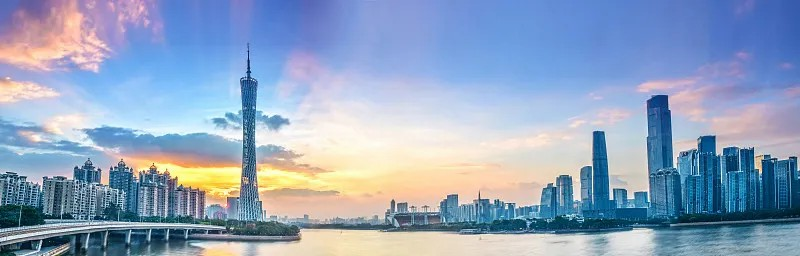Canton: (237, 43, 264, 220)
